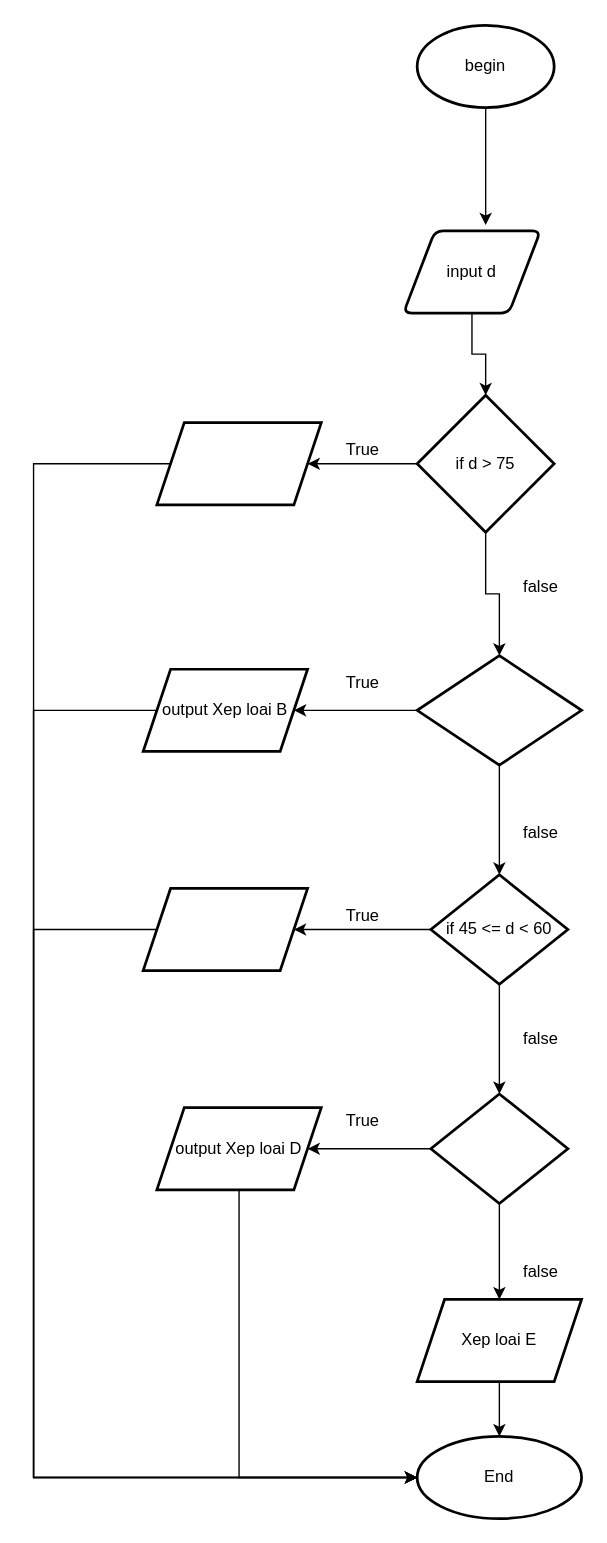
Image size: 607x1543. Some labels were removed from this diagram. The centre of each missing label's shape, as x and y in pixels:
if 35 <= d < 45: [499,1148]
if 60 <= d < 75: [498,709]
output Xep loai A: [238,463]
output Xep loai C: [224,928]
